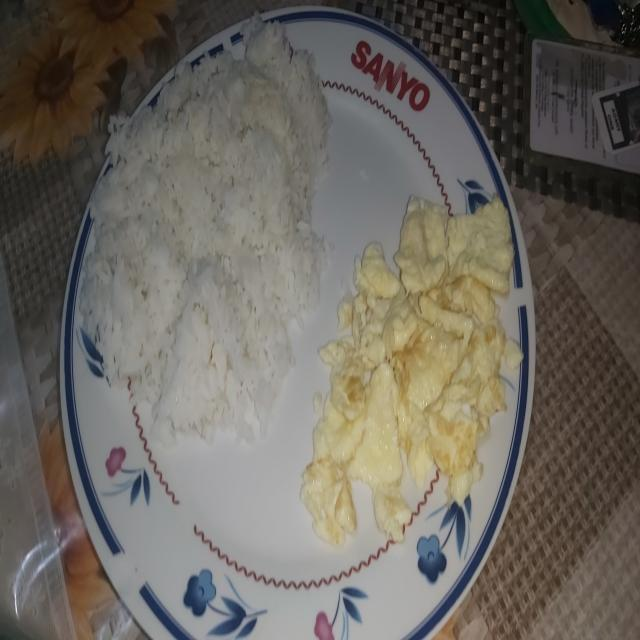Chicken -Chicken Inasal-: (94, 22, 335, 413)
